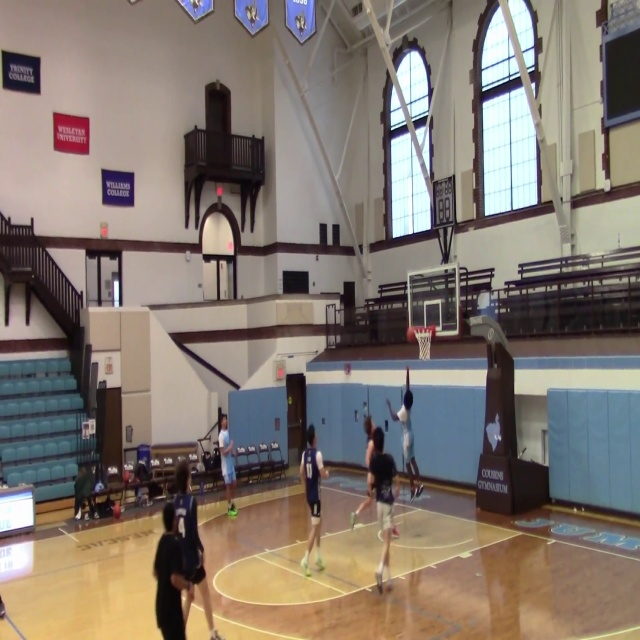Basketball: (391, 526, 399, 538)
